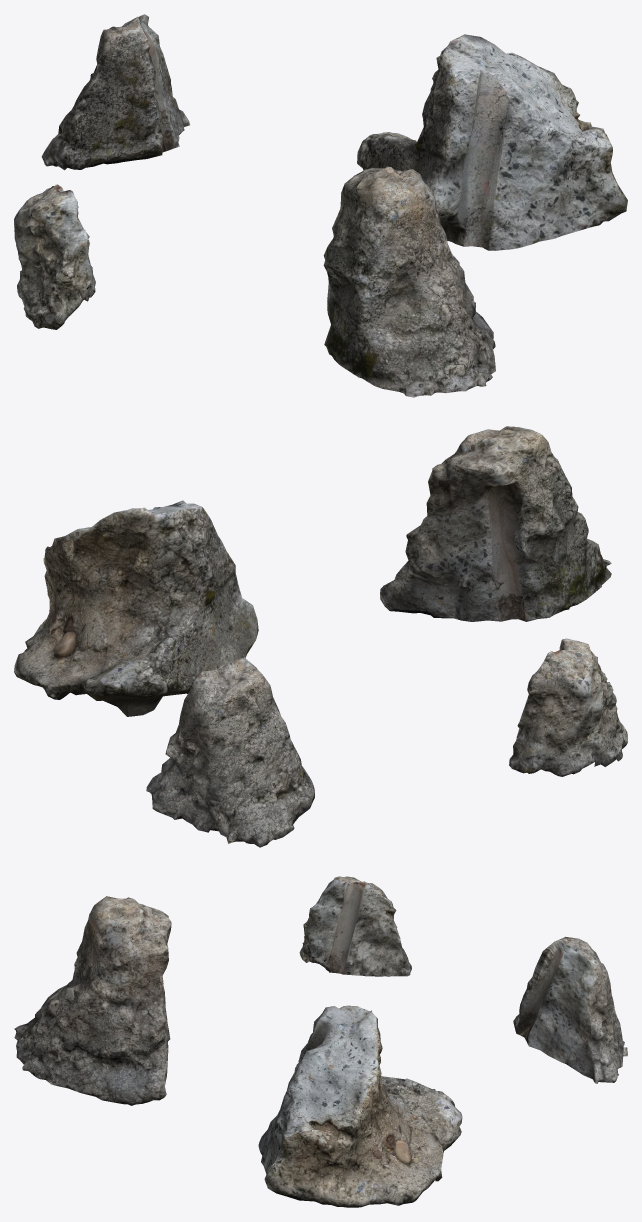
Rendered from rubble-chunks.glb.
3 renders of one model, top to bottom at view 1: azimuth 30°, elevation 25°; view 2: azimuth 150°, elevation 25°; view 3: azimuth 270°, elevation 25°, orthographic. The views are drawn at different scales.
Visible parts, largest first — view 1: scan-2, scan-3, scan-0, scan-1; view 2: scan-2, scan-3, scan-0, scan-1; view 3: scan-2, scan-3, scan-0, scan-1.
Part boxes in pixels (x1=…): scan-2: x1=357, y1=34, x2=627, y2=250; scan-3: x1=323, y1=166, x2=495, y2=397; scan-0: x1=41, y1=14, x2=189, y2=170; scan-1: x1=14, y1=184, x2=95, y2=329; scan-2: x1=14, y1=500, x2=258, y2=716; scan-3: x1=380, y1=426, x2=611, y2=621; scan-0: x1=146, y1=657, x2=314, y2=847; scan-1: x1=509, y1=638, x2=627, y2=776; scan-2: x1=258, y1=1005, x2=462, y2=1207; scan-3: x1=14, y1=896, x2=171, y2=1105; scan-0: x1=513, y1=936, x2=627, y2=1083; scan-1: x1=299, y1=876, x2=411, y2=976.
Size of the model in its own units: 1.61 by 0.5323 by 1.75.
4 materials, 4 textured.
